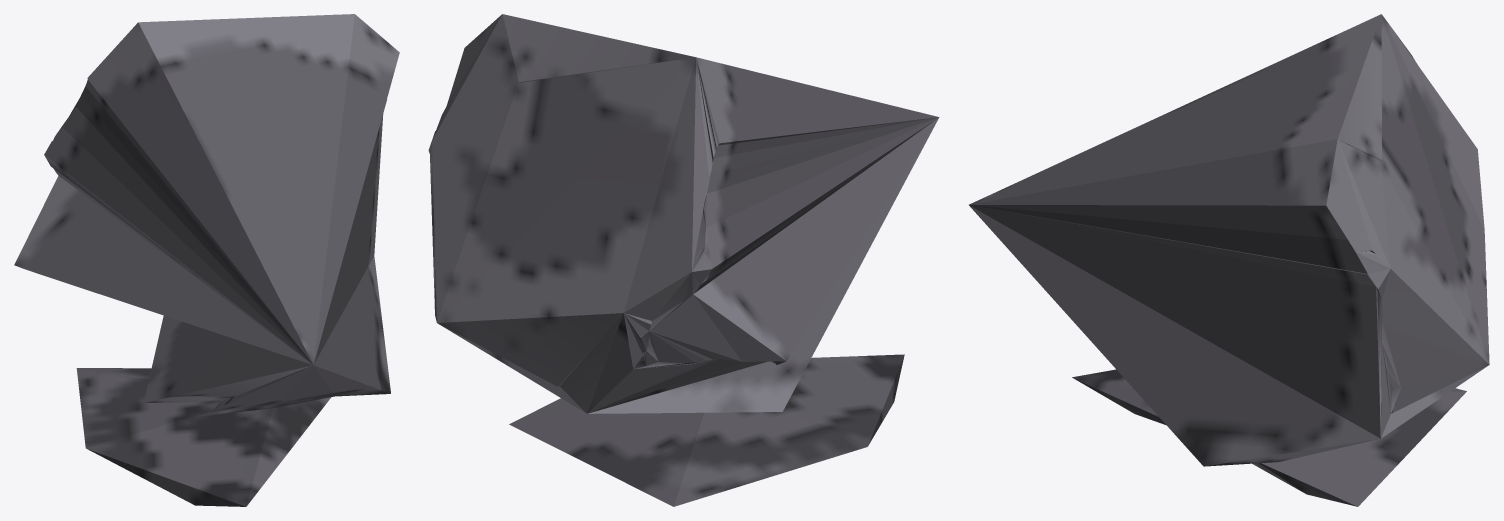
File: SM_MeshyRockBoulderA.fbx
3 views of the same model, side by side, from view 1: azimuth 30°, elevation 25°; view 2: azimuth 150°, elevation 25°; view 3: azimuth 270°, elevation 25° (orthographic). The views are drawn at different scales.
Visible parts, largest first — view 1: SM_MeshyRockBoulderA; view 2: SM_MeshyRockBoulderA; view 3: SM_MeshyRockBoulderA.
Boxes of the visible parts, x1,y1,x2,y2 form: SM_MeshyRockBoulderA: (14,14,399,506); SM_MeshyRockBoulderA: (428,14,939,506); SM_MeshyRockBoulderA: (969,14,1489,506).
Size of the model in its own units: 0.6456 by 0.6824 by 0.8032.
Materials: 1 (1 with a texture image).
